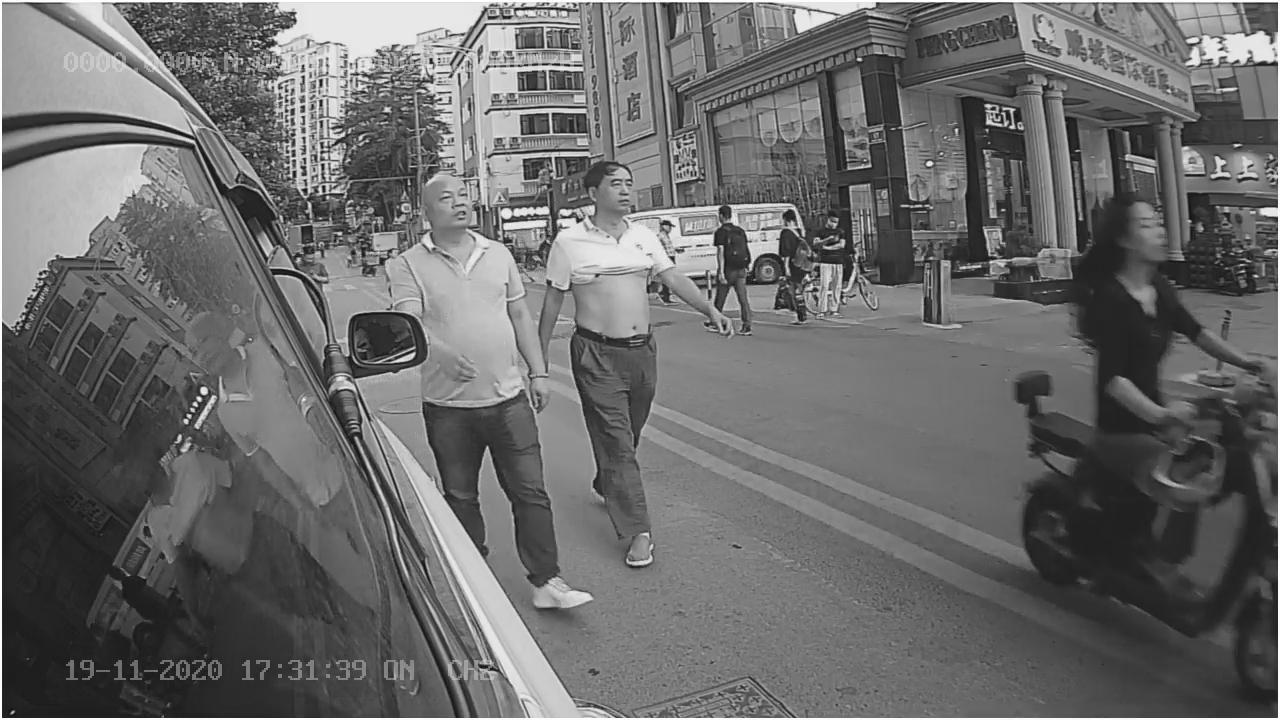person: (545, 156, 685, 567)
